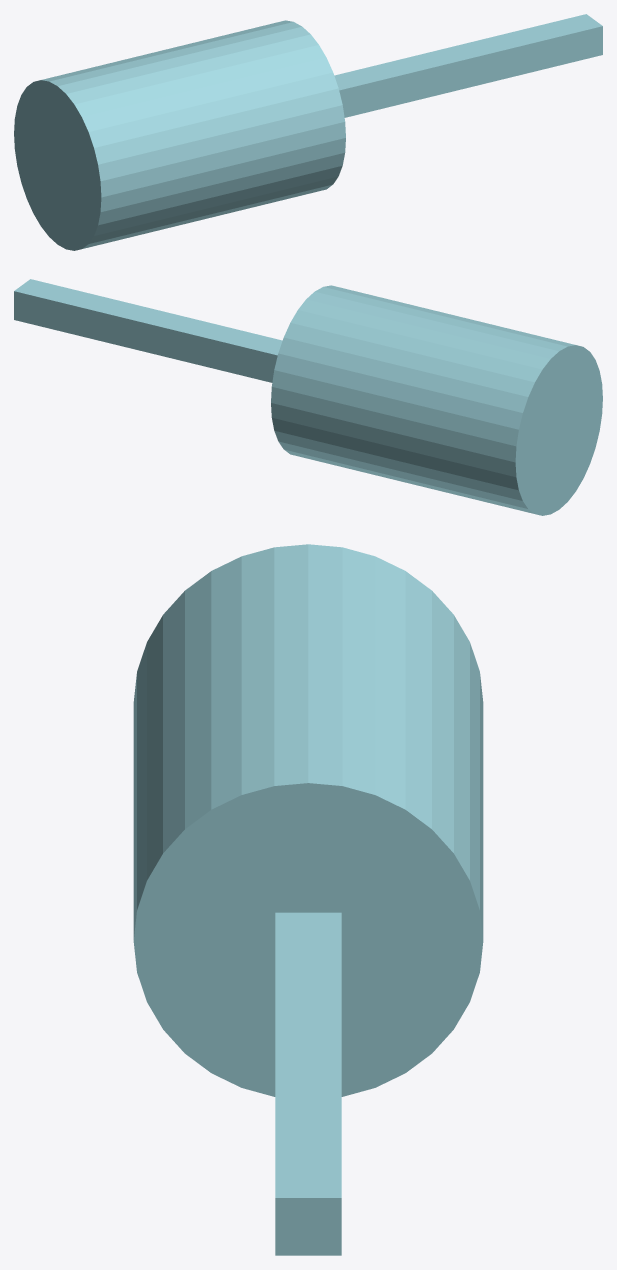
The model's file is cylinder_screwdriver_v3007.obj.
The picture shows the model from 3 angles, top to bottom: view 1: azimuth 30°, elevation 25°; view 2: azimuth 150°, elevation 25°; view 3: azimuth 270°, elevation 25°; orthographic projection. The views are drawn at different scales.
Bounding box in the file's own units: 0.2468 × 0.0696 × 0.0696.
1 material, 1 textured.
